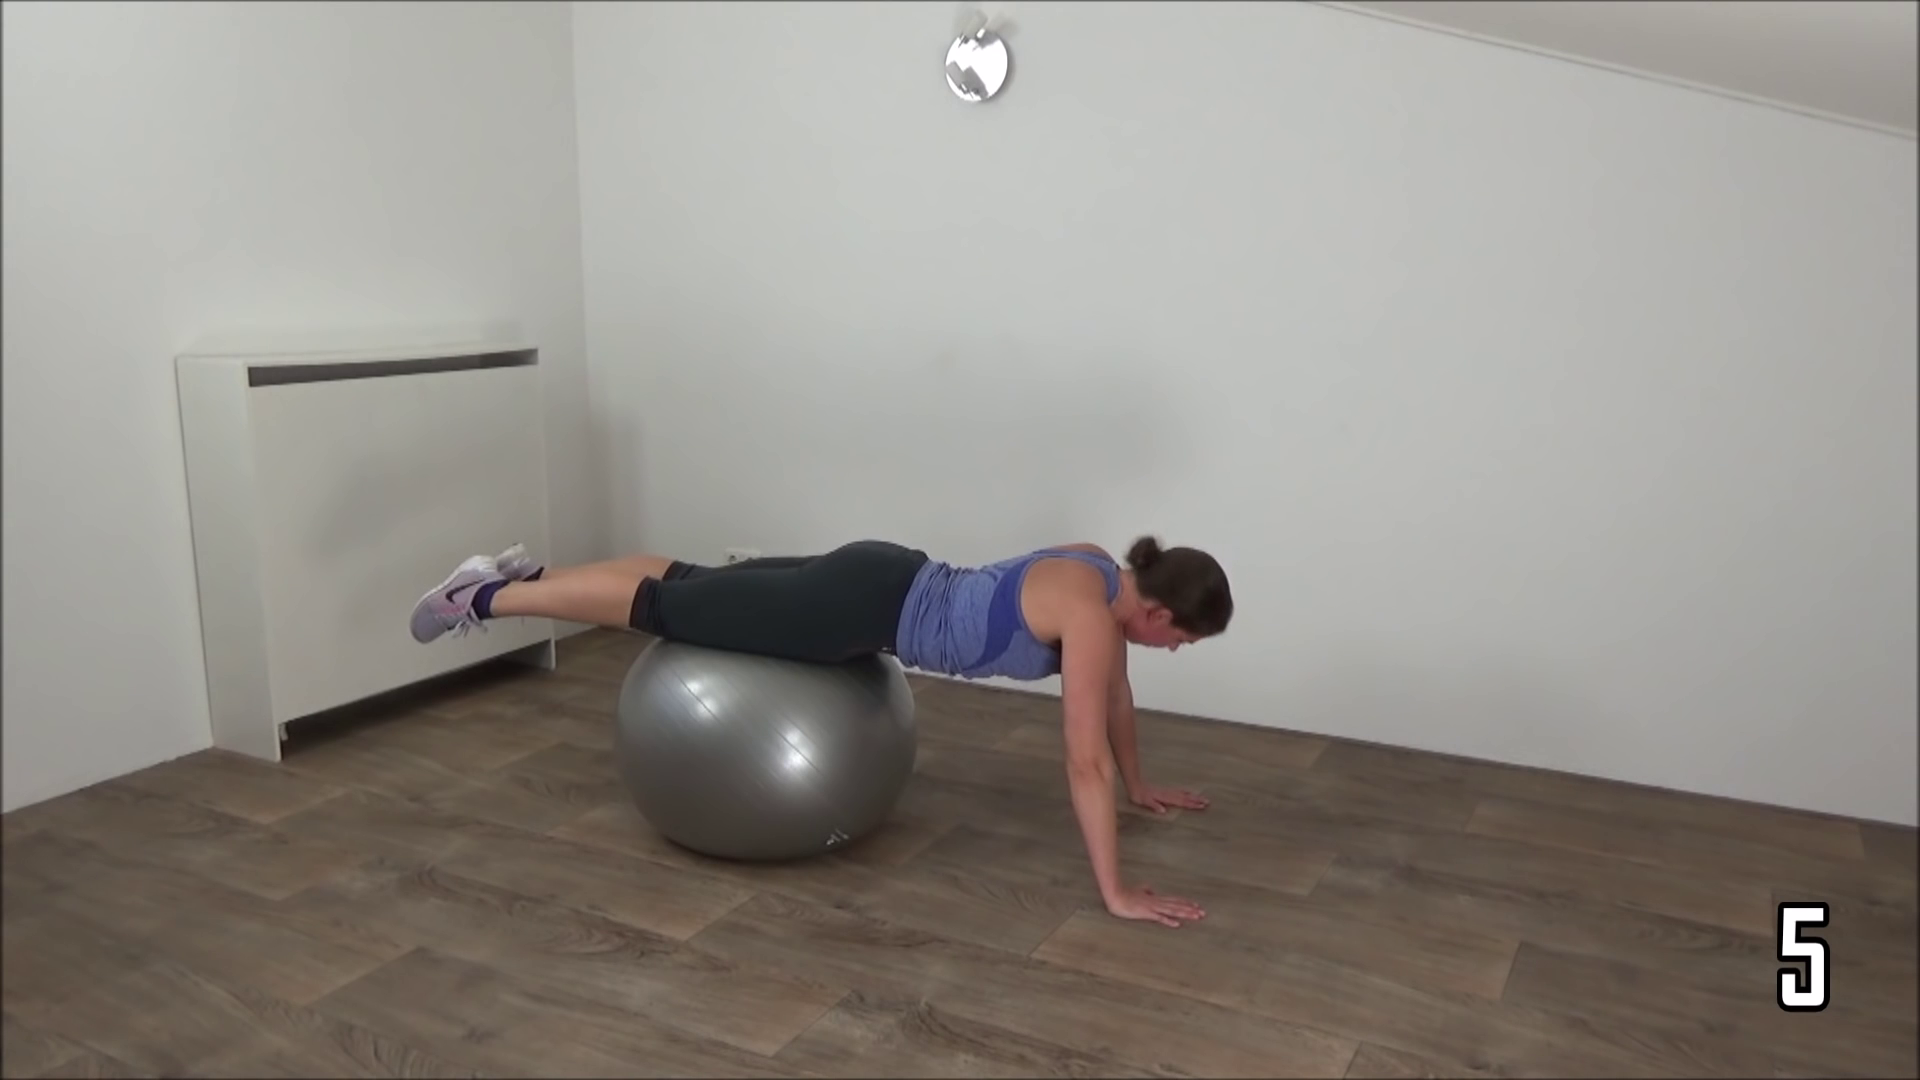yogaball: (592, 616, 949, 876)
